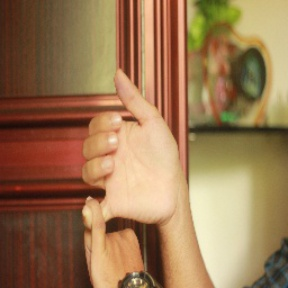S: (75, 65, 181, 287)
